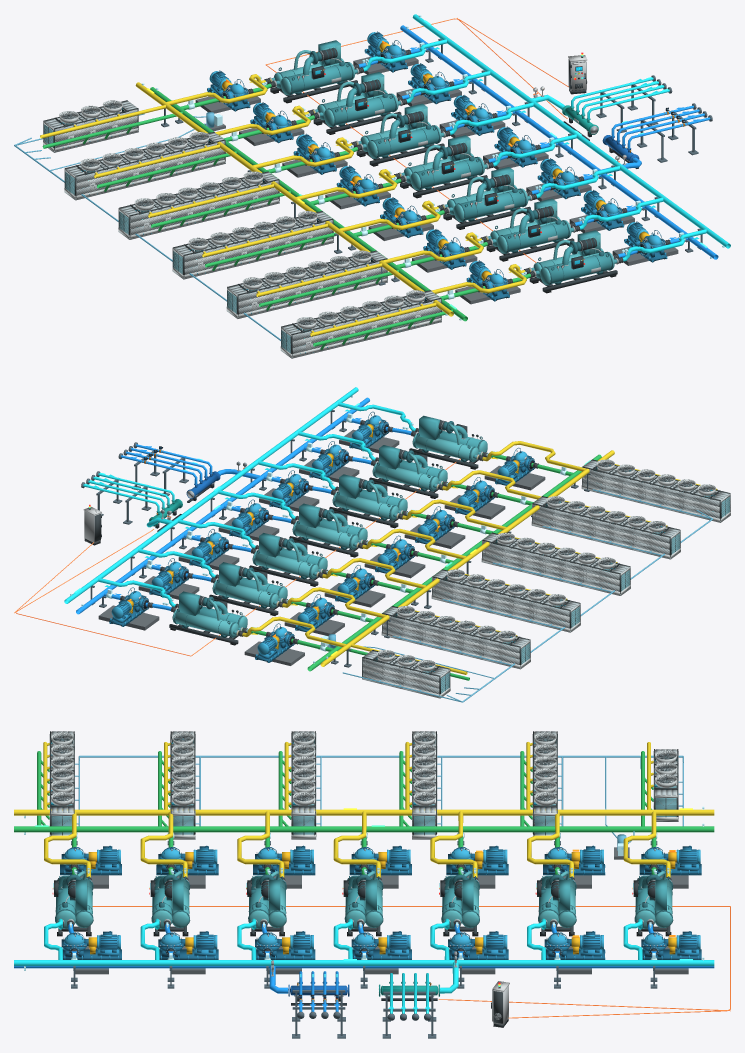
File: chilled-water-plant-overview-latest-v2-lod2.glb
3 views of the same model, one above another, from view 1: azimuth 30°, elevation 25°; view 2: azimuth 150°, elevation 25°; view 3: azimuth 270°, elevation 25° (orthographic). The views are drawn at different scales.
Visible parts, largest first — view 1: CH7__LATEST_MODEL, CH2__LATEST_MODEL, CH6__LATEST_MODEL, CH3__LATEST_MODEL, CH1__LATEST_MODEL, CH4__LATEST_MODEL, CH5__LATEST_MODEL, PIPE_CHW_RETURN_HEADER, PIPE_CHW_SUPPLY_HEADER, PIPE_CW_RETURN_HEADER, CT19__LATEST_MODEL, CT25__LATEST_MODEL (+60 smaller); view 2: CH1__LATEST_MODEL, CH3__LATEST_MODEL, CH4__LATEST_MODEL, CH2__LATEST_MODEL, CH5__LATEST_MODEL, CH6__LATEST_MODEL, CH7__LATEST_MODEL, PIPE_CHW_RETURN_HEADER, PIPE_CHW_SUPPLY_HEADER, PIPE_CW_RETURN_HEADER, CT19__LATEST_MODEL, CT31__LATEST_MODEL (+55 smaller); view 3: PIPE_CW_SUPPLY_HEADER, PIPE_CHW_RETURN_HEADER, PIPE_CW_RETURN_HEADER, CH4__LATEST_MODEL, CH1__LATEST_MODEL, CH6__LATEST_MODEL, CH3__LATEST_MODEL, CH2__LATEST_MODEL, CH7__LATEST_MODEL, CH5__LATEST_MODEL, PIPE_CHW_SUPPLY_HEADER, CHWP6__LATEST_MODEL (+30 smaller).
Part boxes in pixels (<box>): CH7__LATEST_MODEL: <box>529,230,618,293</box>; CH2__LATEST_MODEL: <box>312,72,402,134</box>; CH6__LATEST_MODEL: <box>485,198,575,261</box>; CH3__LATEST_MODEL: <box>356,103,445,166</box>; CH1__LATEST_MODEL: <box>269,40,359,103</box>; CH4__LATEST_MODEL: <box>399,135,488,198</box>; CH5__LATEST_MODEL: <box>442,167,532,229</box>; PIPE_CHW_RETURN_HEADER: <box>412,14,730,248</box>; PIPE_CHW_SUPPLY_HEADER: <box>400,25,718,259</box>; PIPE_CW_RETURN_HEADER: <box>135,82,453,316</box>; CT19__LATEST_MODEL: <box>118,198,170,239</box>; CT25__LATEST_MODEL: <box>64,158,116,200</box>; CH1__LATEST_MODEL: <box>169,591,247,645</box>; CH3__LATEST_MODEL: <box>249,533,327,586</box>; CH4__LATEST_MODEL: <box>289,503,367,557</box>; CH2__LATEST_MODEL: <box>209,562,287,615</box>; CH5__LATEST_MODEL: <box>329,474,407,528</box>; CH6__LATEST_MODEL: <box>369,445,447,498</box>; CH7__LATEST_MODEL: <box>409,415,487,469</box>; PIPE_CHW_RETURN_HEADER: <box>64,387,358,603</box>; PIPE_CHW_SUPPLY_HEADER: <box>76,397,369,614</box>; PIPE_CW_RETURN_HEADER: <box>320,450,614,666</box>; CT19__LATEST_MODEL: <box>532,594,580,632</box>; CT31__LATEST_MODEL: <box>402,660,450,698</box>; PIPE_CW_SUPPLY_HEADER: <box>14,826,714,832</box>; PIPE_CHW_RETURN_HEADER: <box>14,960,714,965</box>; PIPE_CW_RETURN_HEADER: <box>14,809,714,815</box>; CH4__LATEST_MODEL: <box>342,871,383,936</box>; CH1__LATEST_MODEL: <box>632,871,673,936</box>; CH6__LATEST_MODEL: <box>149,871,190,936</box>; CH3__LATEST_MODEL: <box>439,871,479,936</box>; CH2__LATEST_MODEL: <box>535,871,576,936</box>; CH7__LATEST_MODEL: <box>52,871,93,936</box>; CH5__LATEST_MODEL: <box>246,871,286,936</box>; PIPE_CHW_SUPPLY_HEADER: <box>14,966,714,968</box>; CHWP6__LATEST_MODEL: <box>158,931,218,959</box>.
Size of the model in its own units: 34.08 by 2.36 by 35.62.
